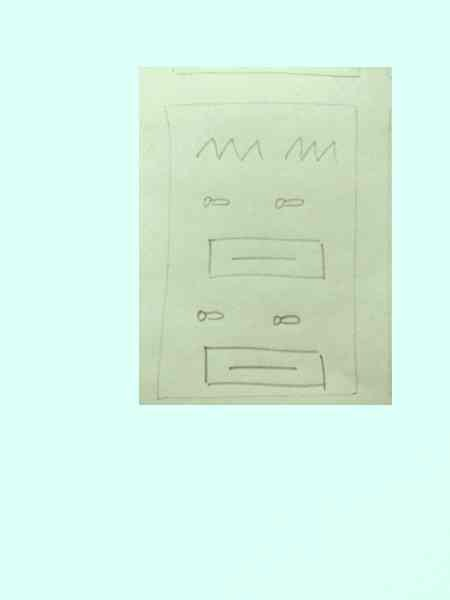button: (198, 232, 333, 288), (195, 342, 332, 394)
switch: (267, 189, 308, 216), (267, 309, 305, 332), (191, 303, 228, 325), (199, 192, 237, 210)
text: (193, 130, 264, 168), (281, 132, 341, 168)
